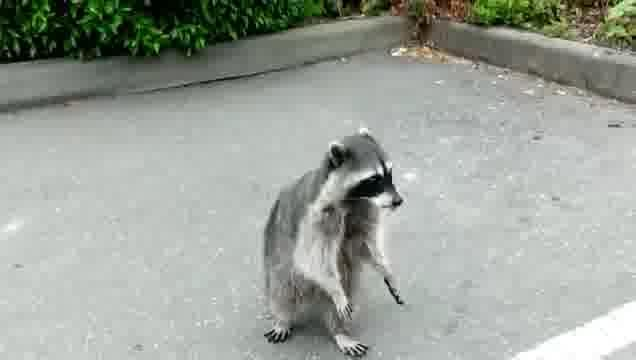raccoon: (259, 123, 411, 360)
